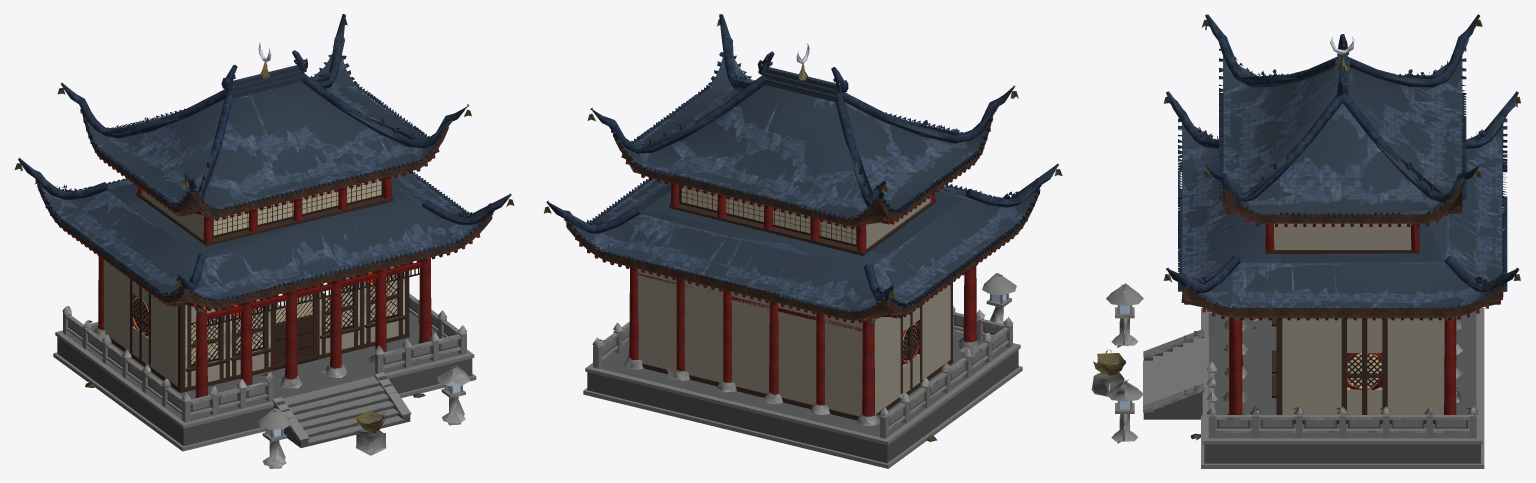
Rendered from prop_ancestral_hall.gltf.
3 views of the same model, side by side, from view 1: azimuth 30°, elevation 25°; view 2: azimuth 150°, elevation 25°; view 3: azimuth 270°, elevation 25° (orthographic). The views are drawn at different scales.
Visible parts, largest first — view 1: Far, Near; view 2: Far, Near; view 3: Far, Near.
Part boxes in pixels (box(x1,y1,x2,y2)): Far: box(20, 14, 507, 468); Near: box(14, 14, 514, 466); Far: box(552, 14, 1055, 468); Near: box(543, 14, 1062, 441); Far: box(1092, 14, 1517, 468); Near: box(1091, 14, 1520, 441).
Size of the model in its own units: 13.63 by 12.55 by 13.67.
Materials: 24 (16 with a texture image).
